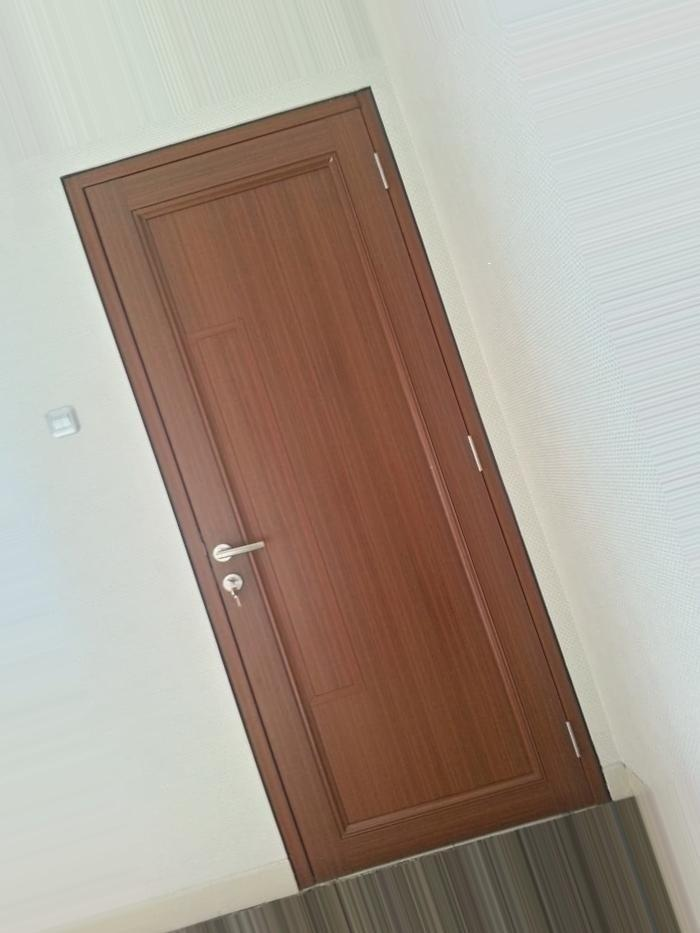door: (56, 72, 622, 899)
